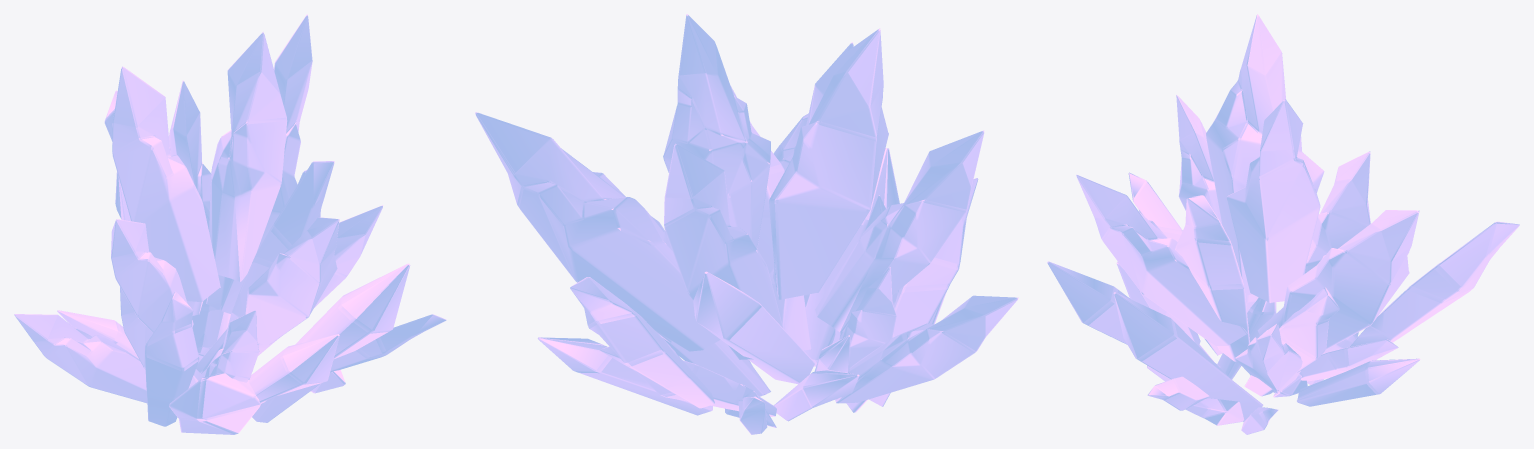
The model's file is 9-shuijing.FBX.
The picture shows the model from 3 angles, left to right: view 1: azimuth 30°, elevation 25°; view 2: azimuth 150°, elevation 25°; view 3: azimuth 270°, elevation 25°; orthographic projection. The views are drawn at different scales.
Parts seen in each view (by area): view 1: Object250; view 2: Object250; view 3: Object250.
Part boxes in pixels (x1,y1,x2,y2): Object250: [14, 14, 446, 434]; Object250: [475, 14, 1018, 434]; Object250: [1047, 14, 1519, 434].
Size of the model in its own units: 0.7264 by 0.6518 by 0.8185.
